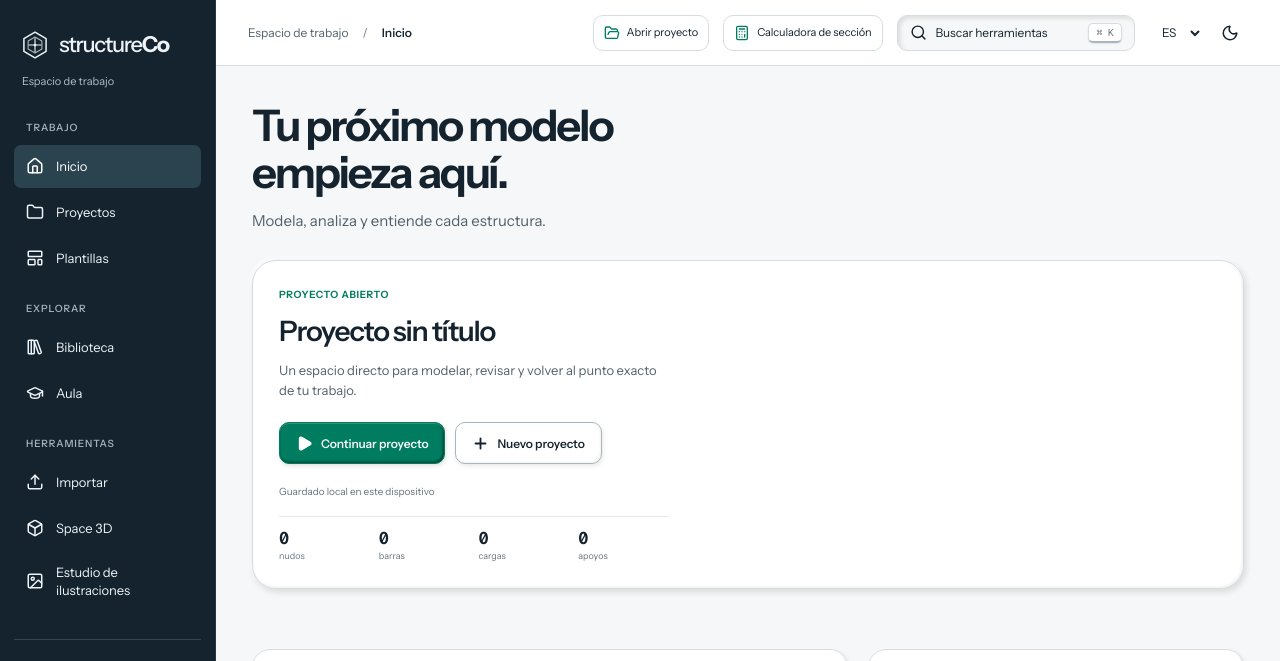
WelcomeScreen · plantillas estructurales › muestra todos los ejemplos con una ilustración editable del registro
The image size is (1280, 661).
Step 1. Click the button "Plantillas" → x=108, y=258, box [14,236,201,280]
(page scrolled)
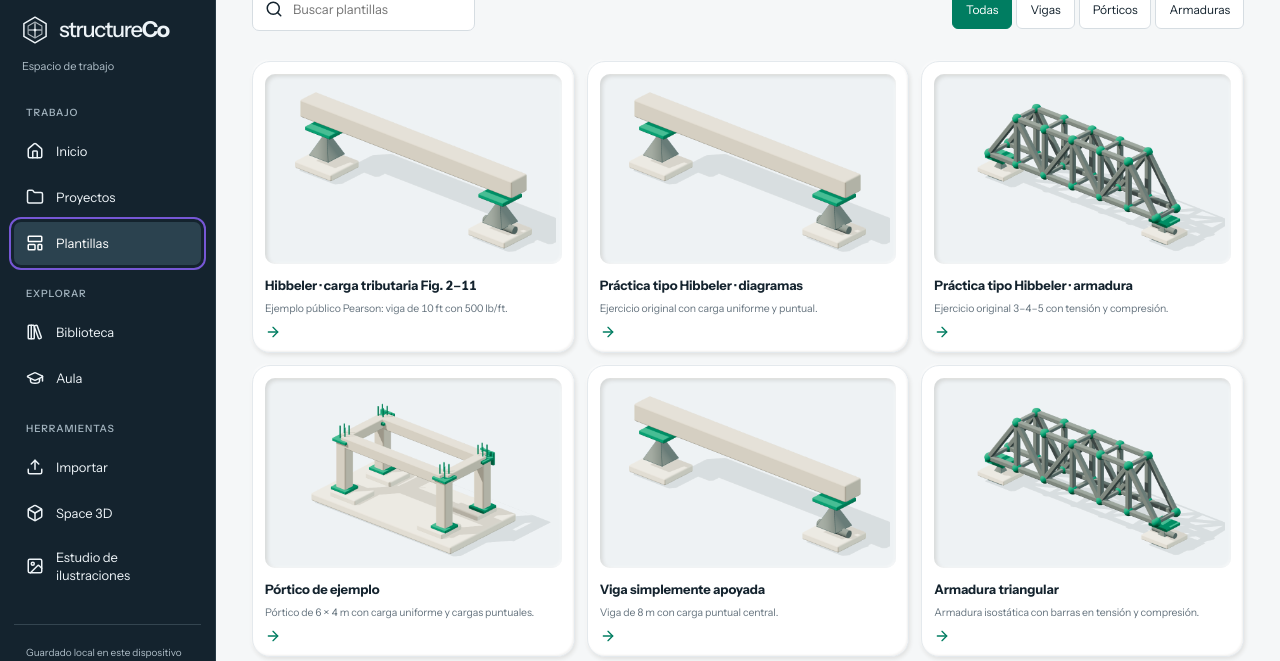
Expected: the 1st picture is shown, [265,74,562,264]
Expected: the 2nd picture is shown, [600,74,896,264]
Expected: the 3rd picture is shown, [934,74,1231,264]
